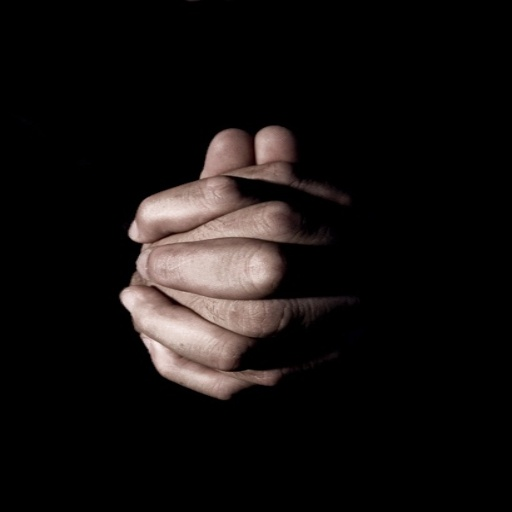hand: (120, 125, 389, 401)
